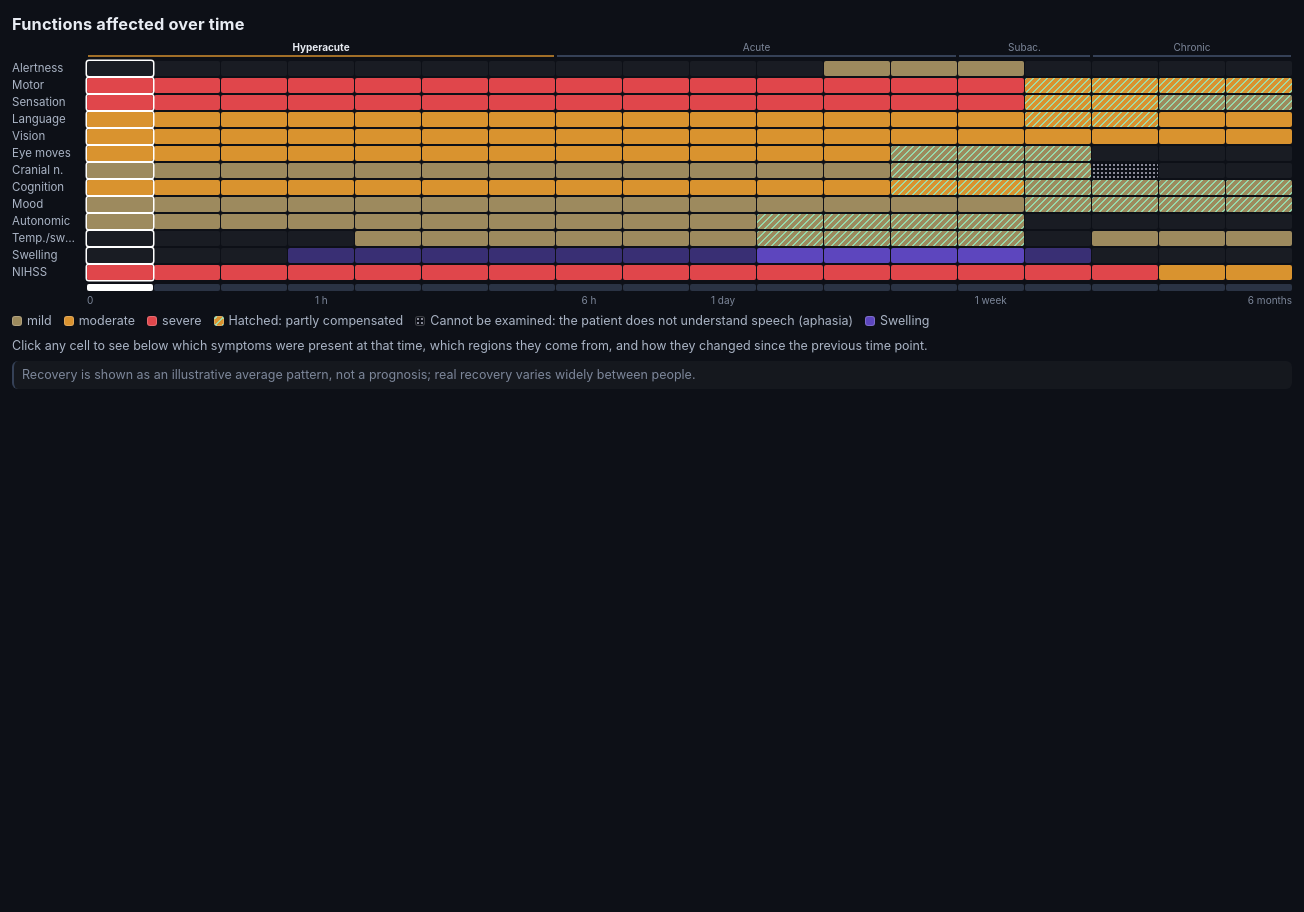
Scenario: function heat-map cell detail › is keyboard-accessible and can be closed
Step 1. Press Enter in the button named "Motor · 1 day", box top-left (690, 78), bottom-right (756, 93)
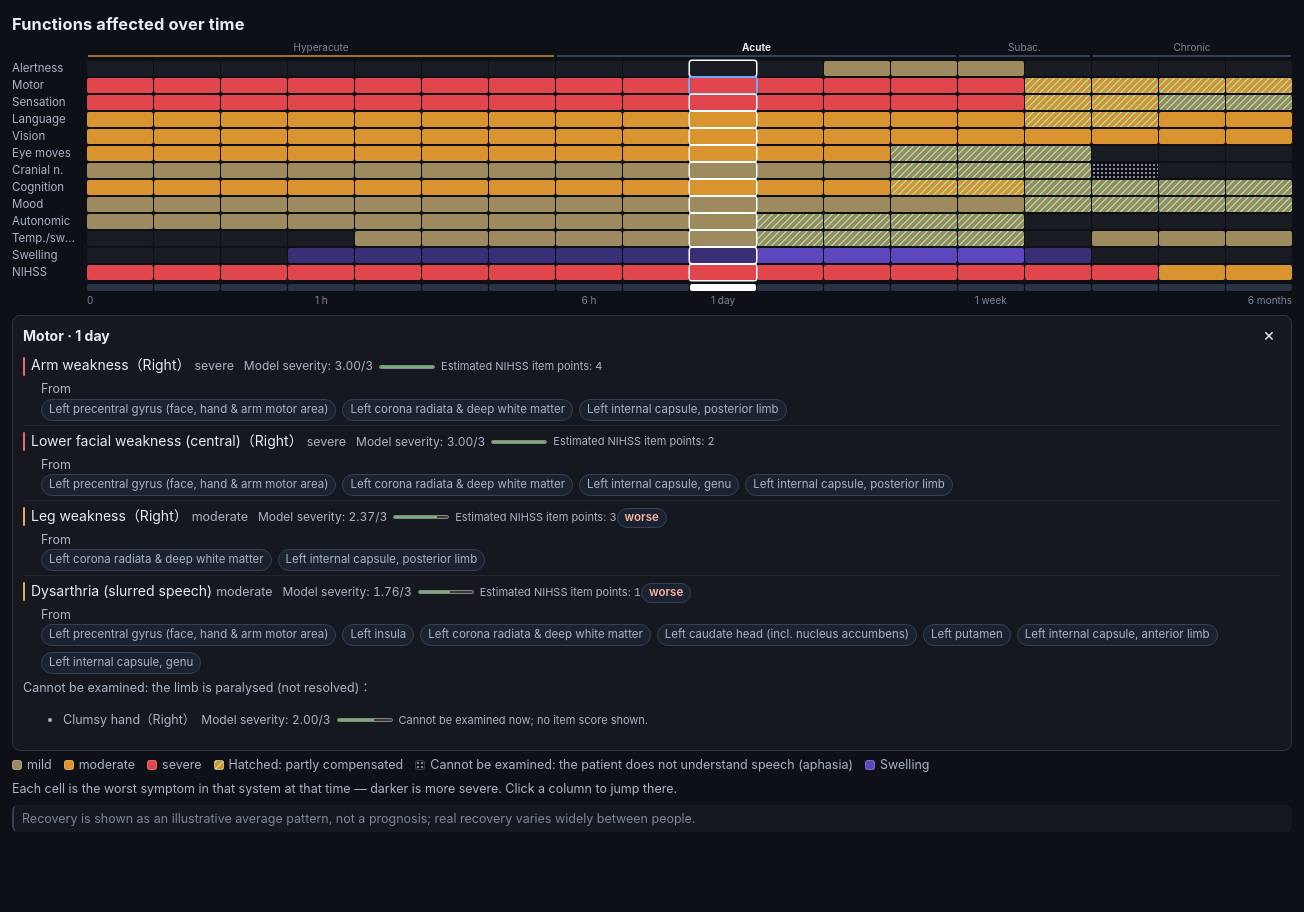
Check: the element with class "cell-detail" is shown, box top-left (12, 315), bottom-right (1292, 751)
Step 2. Click the button named "Close" → (1269, 335), box top-left (1257, 324), bottom-right (1281, 346)
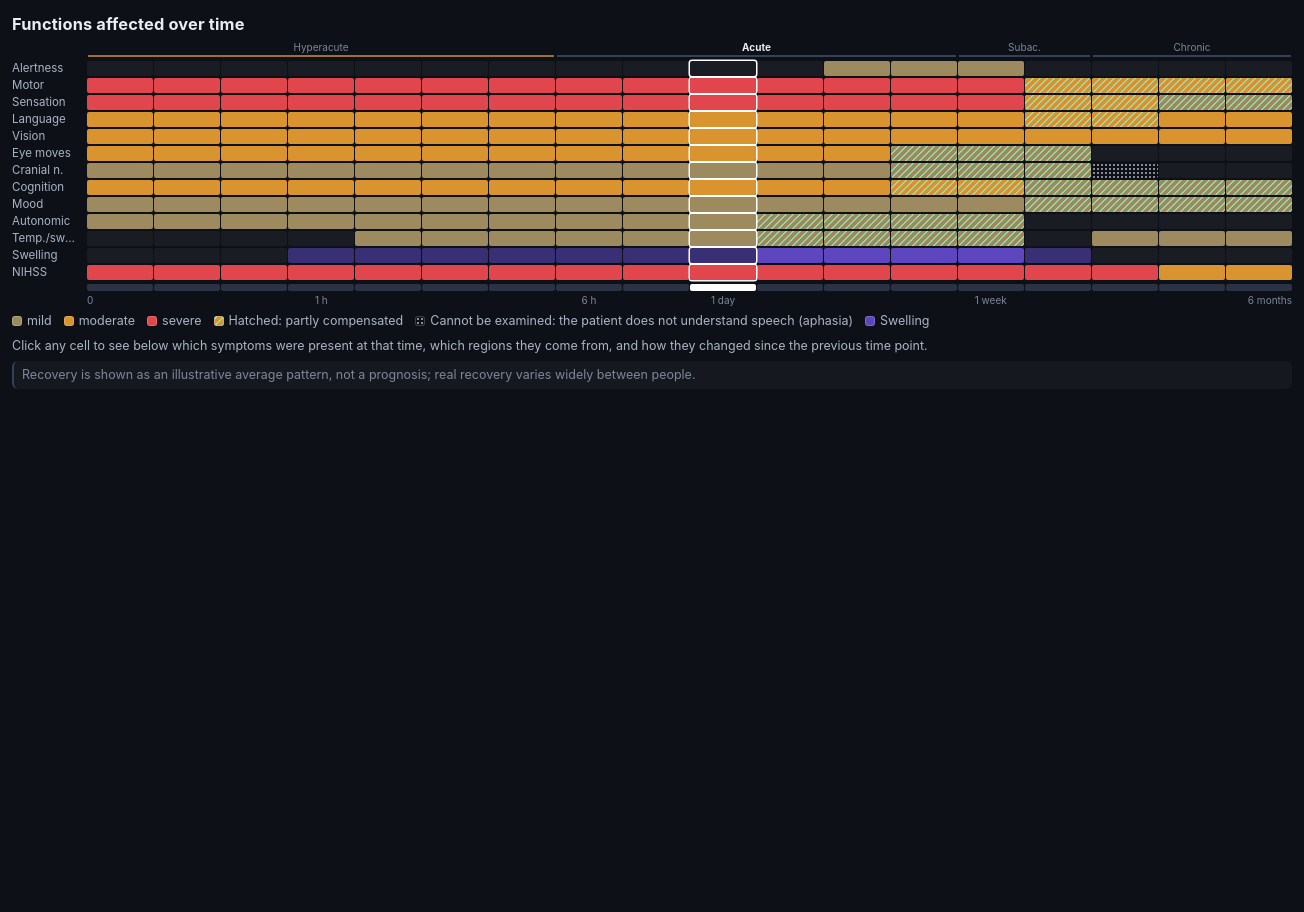
Check: the element with class "cell-detail" is gone
